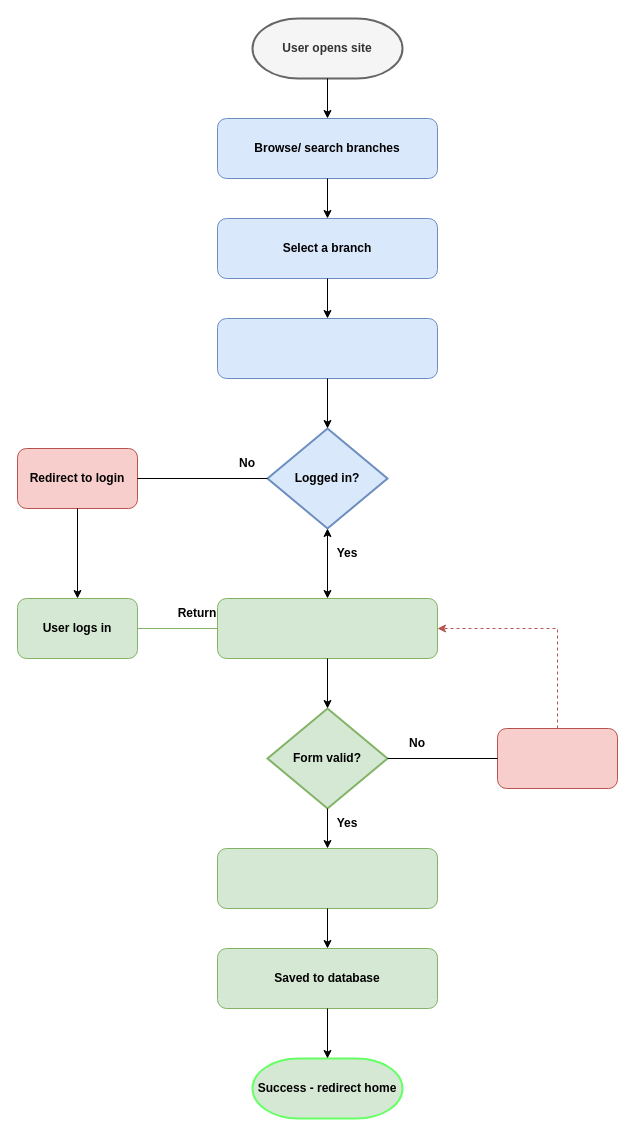
Some shapes in this 635 by 1136 pixel diagram are drawn without their labels. Here are the shapes that lost their labels. From the top down, the box of each, then its label:
(216, 318, 438, 378): Click + Report queue
(216, 598, 438, 658): Fill in report form
(496, 728, 618, 788): Show error toast
(216, 848, 438, 908): POST to /api/reports
